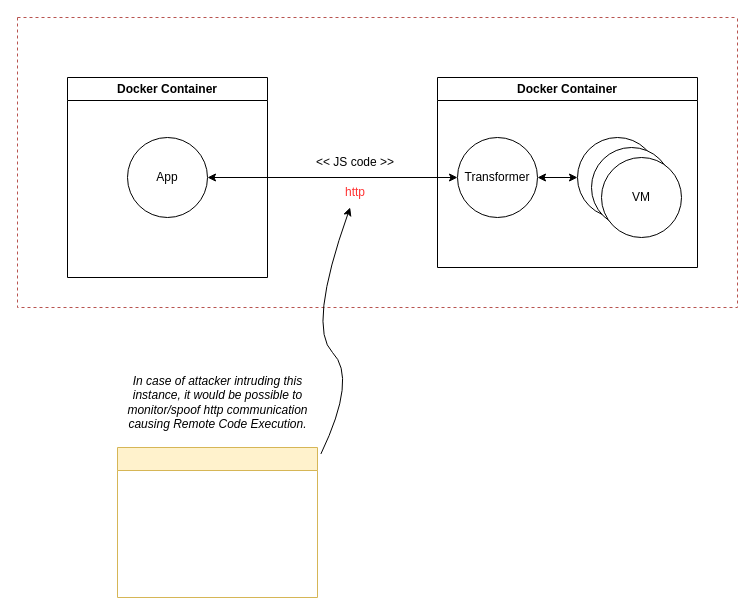
Image size: 755x615. Some labels were removed from this diagram. The shapes that lost their labels are listed below. From the top down, each one's box as (x1, y1, x2, y2) in pixels, then its label:
(16, 16, 738, 308): private docker network
(116, 446, 318, 598): TODO: STRIDE, etc.
